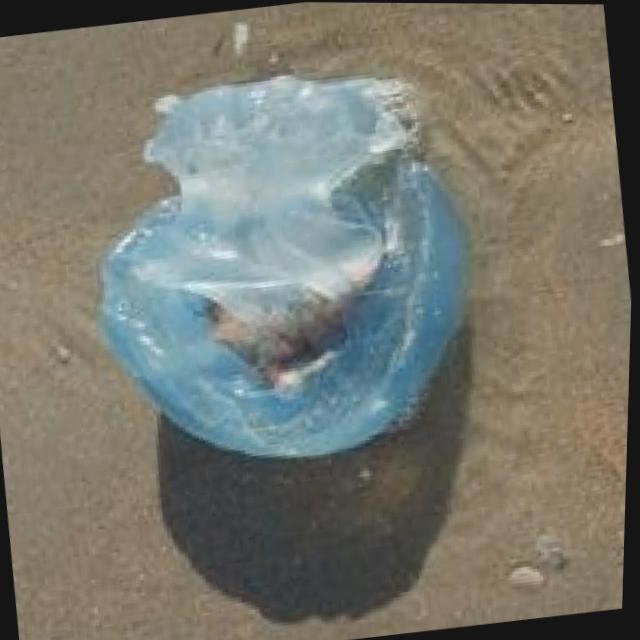Jellyfish: (52, 33, 524, 507)
